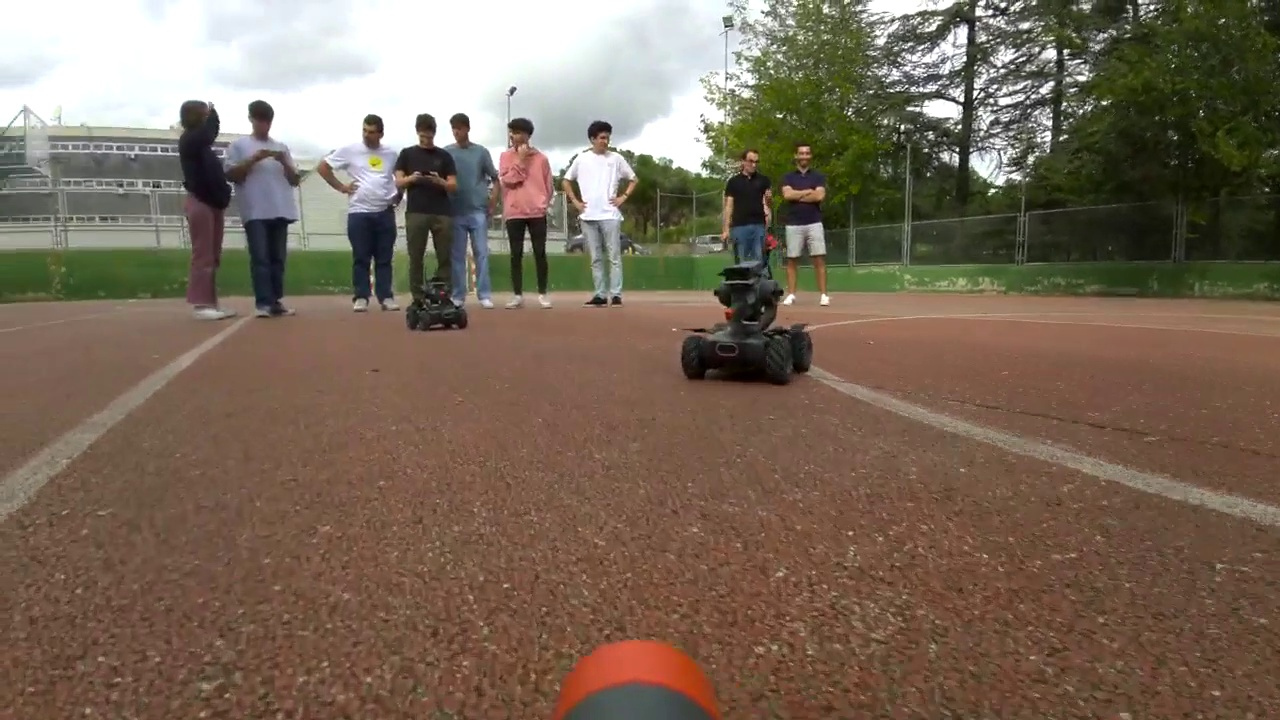robot: (681, 260, 814, 385), (406, 278, 468, 329)
